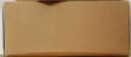stock: (3, 2, 131, 56)
